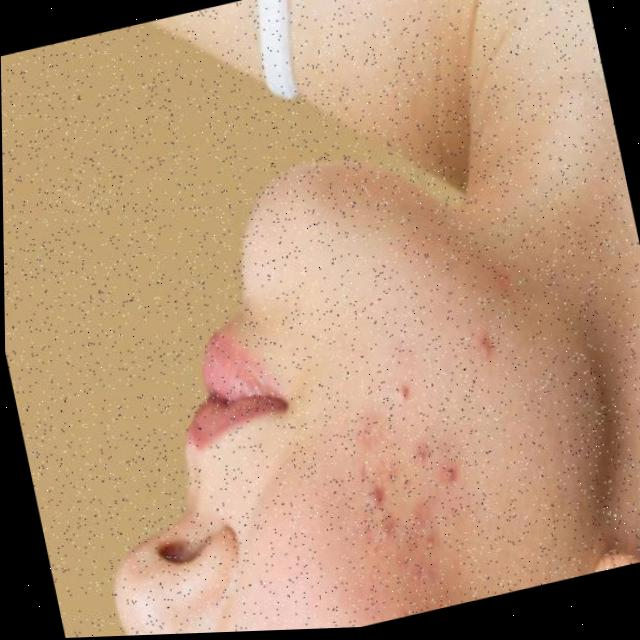Acne: (316, 307, 543, 580)
